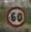limite 60: (5, 5, 26, 27)
